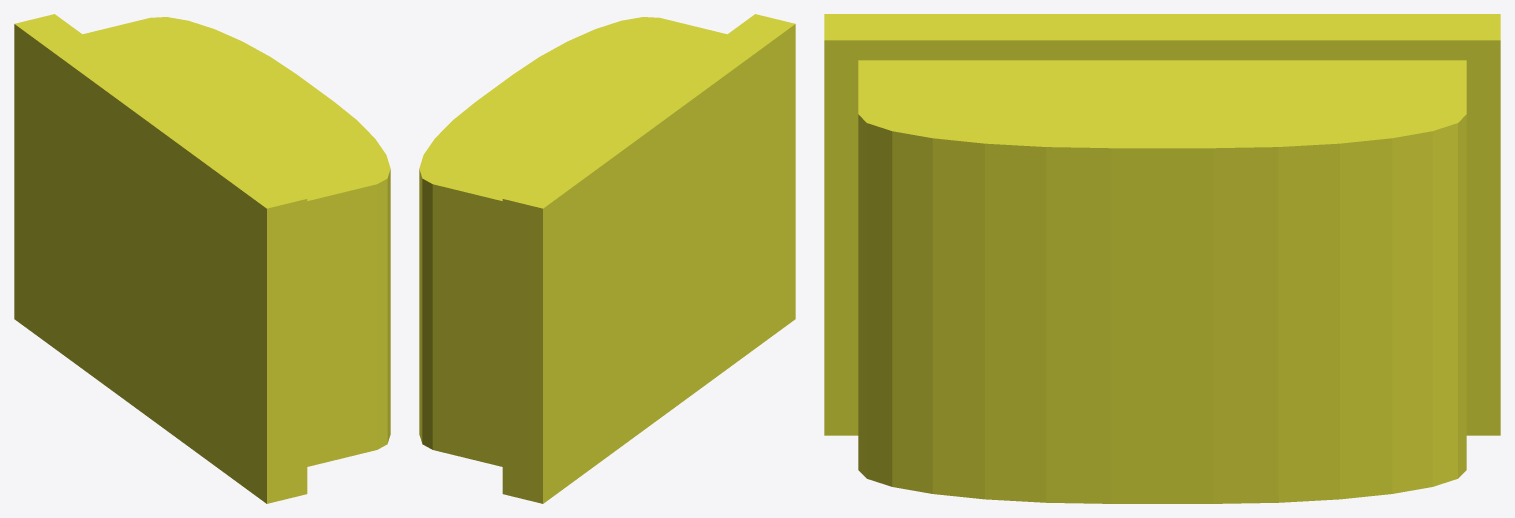
Rendered from electrode-right.dae.
3 views of the same model, side by side, from view 1: azimuth 30°, elevation 25°; view 2: azimuth 150°, elevation 25°; view 3: azimuth 270°, elevation 25° (orthographic). The views are drawn at different scales.
Parts seen in each view (by area): view 1: charge-station-electrode-right; view 2: charge-station-electrode-right; view 3: charge-station-electrode-right.
Boxes of the visible parts, box(x1,y1,x2,y2) form: charge-station-electrode-right: box(14, 14, 390, 503); charge-station-electrode-right: box(419, 14, 795, 503); charge-station-electrode-right: box(824, 14, 1500, 503).
Bounding box in the file's own units: 0.0373 × 0.093 × 0.06.
